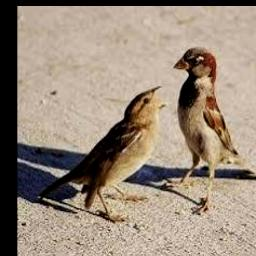Sparrow: (38, 85, 166, 223), (164, 47, 256, 215)
